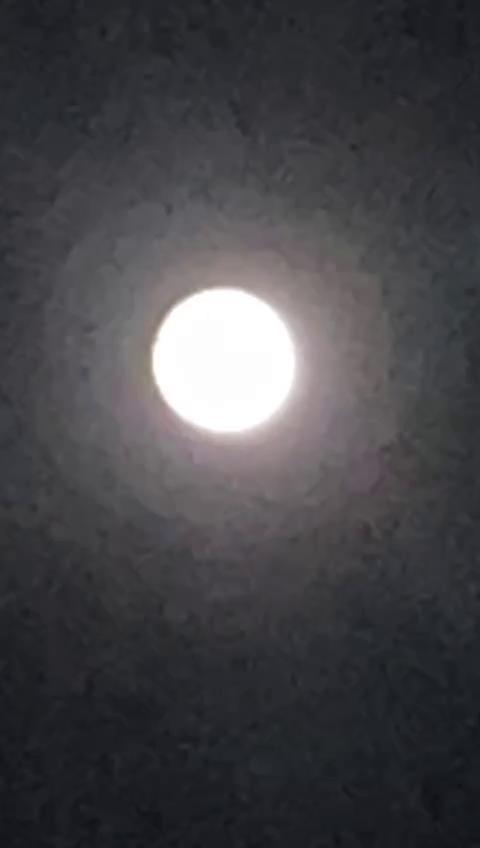moon: (120, 279, 298, 470)
